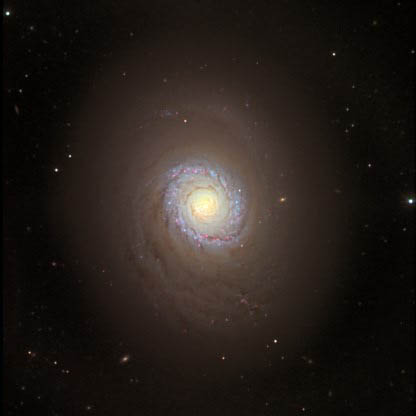Messier 94: (67, 49, 341, 367)
